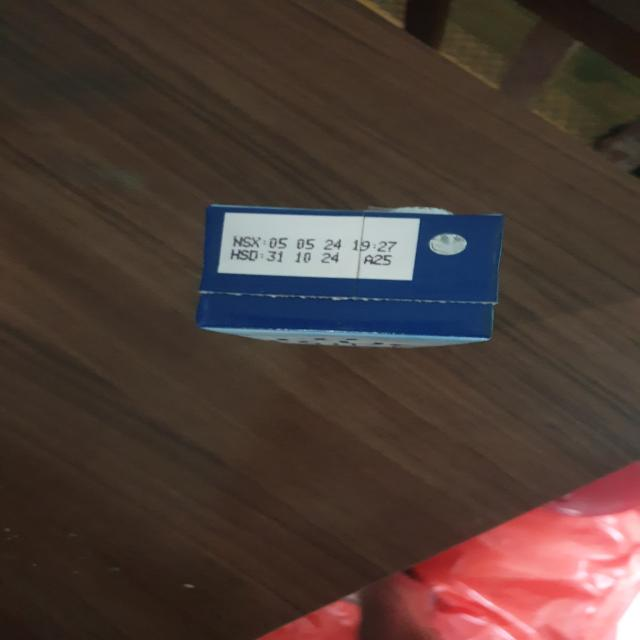TH: (197, 204, 505, 349)
